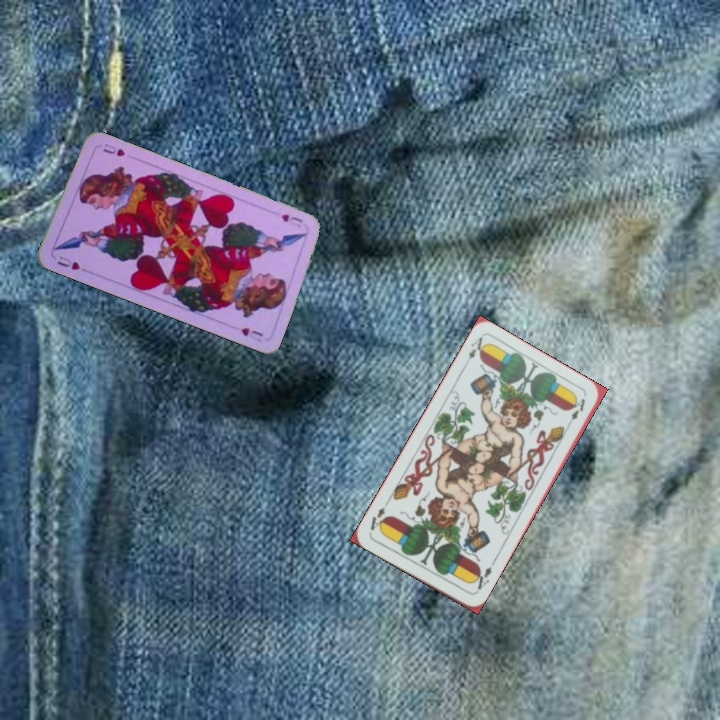EA: (468, 562, 495, 595), (464, 333, 489, 362)
HU: (53, 251, 82, 273), (277, 210, 305, 230)
